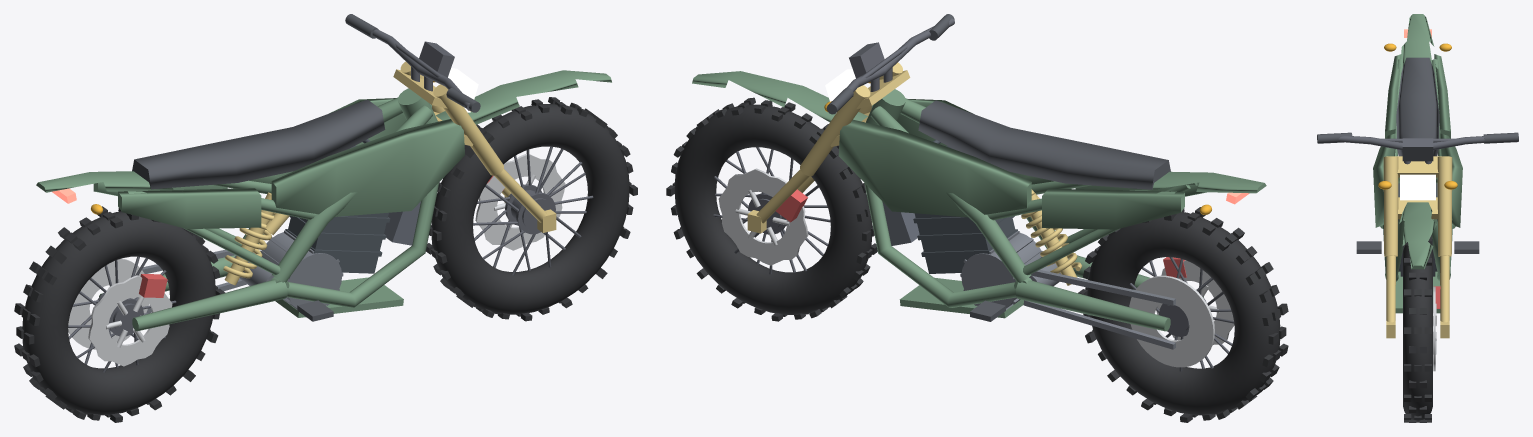
File: emoto.glb
The picture shows the model from 3 angles, left to right: view 1: azimuth 30°, elevation 25°; view 2: azimuth 150°, elevation 25°; view 3: azimuth 270°, elevation 25°; orthographic projection. The views are drawn at different scales.
Parts seen in each view (by area): view 1: frame_fairing_chassis, rear_wheel_tire, front_wheel_tire, seat_saddle_leather, rear_wheel_rotor, fork_shock_suspension, battery_pack_hv, front_wheel_rim, motor_mid_drive, front_wheel_rotor, cockpit_tft_handlebars, rear_wheel_rim (+3 smaller); view 2: frame_fairing_chassis, front_wheel_tire, rear_wheel_tire, seat_saddle_leather, rear_wheel_rotor, fork_shock_suspension, motor_mid_drive, front_wheel_rotor, battery_pack_hv, cockpit_tft_handlebars, front_wheel_rim, rear_wheel_rim (+3 smaller); view 3: frame_fairing_chassis, fork_shock_suspension, front_wheel_tire, seat_saddle_leather, cockpit_tft_handlebars, headlight_led, grip_handles, front_wheel_rotor.
Boxes of the visible parts, left/top/right/bottom form: frame_fairing_chassis: left=36, top=70, right=611, bottom=331; rear_wheel_tire: left=14, top=206, right=225, bottom=422; front_wheel_tire: left=426, top=97, right=637, bottom=321; seat_saddle_leather: left=132, top=99, right=385, bottom=321; rear_wheel_rotor: left=68, top=258, right=172, bottom=366; fork_shock_suspension: left=223, top=61, right=556, bottom=285; battery_pack_hv: left=285, top=139, right=390, bottom=273; front_wheel_rim: left=473, top=146, right=593, bottom=275; motor_mid_drive: left=142, top=230, right=343, bottom=313; front_wheel_rotor: left=475, top=153, right=565, bottom=250; cockpit_tft_handlebars: left=372, top=29, right=470, bottom=110; rear_wheel_rim: left=68, top=256, right=176, bottom=372; frame_fairing_chassis: left=692, top=71, right=1266, bottom=331; front_wheel_tire: left=666, top=97, right=877, bottom=321; rear_wheel_tire: left=1078, top=207, right=1288, bottom=422; seat_saddle_leather: left=918, top=100, right=1170, bottom=321; rear_wheel_rotor: left=1129, top=260, right=1234, bottom=367; fork_shock_suspension: left=747, top=62, right=1081, bottom=285; motor_mid_drive: left=960, top=231, right=1175, bottom=349; front_wheel_rotor: left=718, top=168, right=808, bottom=265; battery_pack_hv: left=913, top=140, right=1017, bottom=273; cockpit_tft_handlebars: left=846, top=18, right=954, bottom=91; front_wheel_rim: left=713, top=147, right=830, bottom=274; rear_wheel_rim: left=1129, top=257, right=1234, bottom=371; frame_fairing_chassis: left=1373, top=14, right=1462, bottom=313; fork_shock_suspension: left=1383, top=156, right=1452, bottom=338; front_wheel_tire: left=1403, top=235, right=1432, bottom=422; seat_saddle_leather: left=1356, top=57, right=1479, bottom=253; cockpit_tft_handlebars: left=1338, top=136, right=1484, bottom=164; headlight_led: left=1400, top=174, right=1435, bottom=200; grip_handles: left=1317, top=132, right=1518, bottom=143; front_wheel_rotor: left=1433, top=286, right=1436, bottom=371.
Bounding box in the file's own units: 2.18 × 0.9903 × 0.7641.
